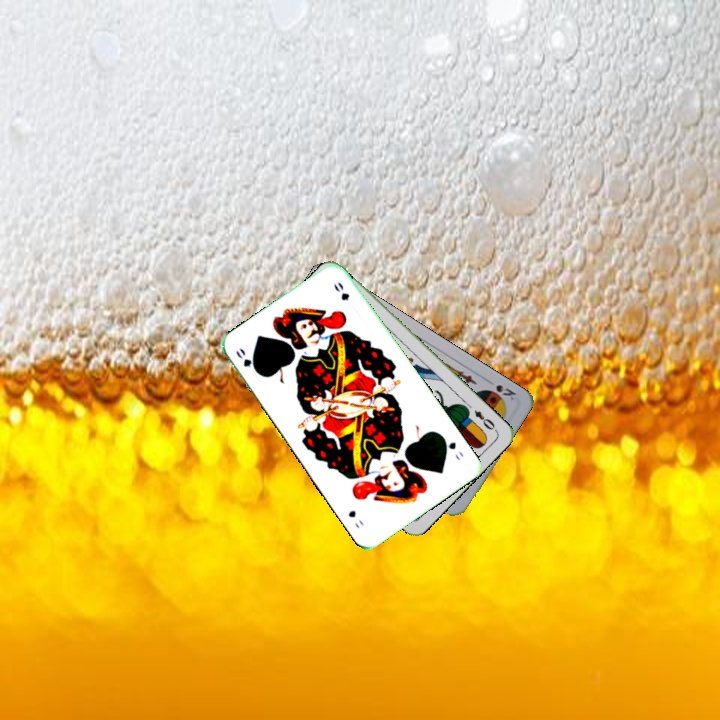EO: (470, 406, 497, 433)
GO: (232, 343, 263, 378), (438, 432, 466, 463)
SK: (483, 380, 519, 403)
